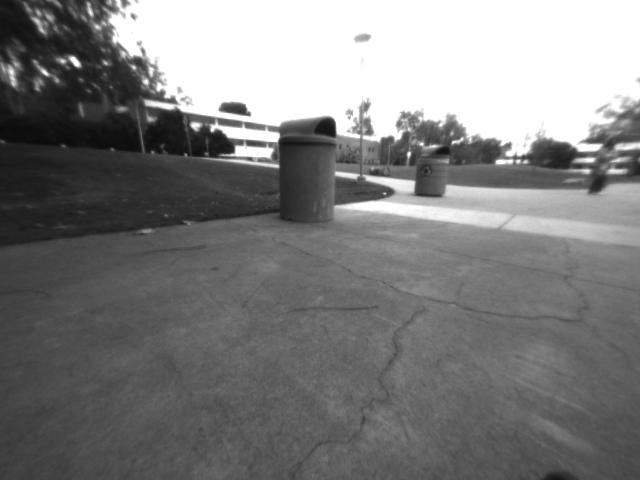trashcan: (272, 111, 342, 229)
